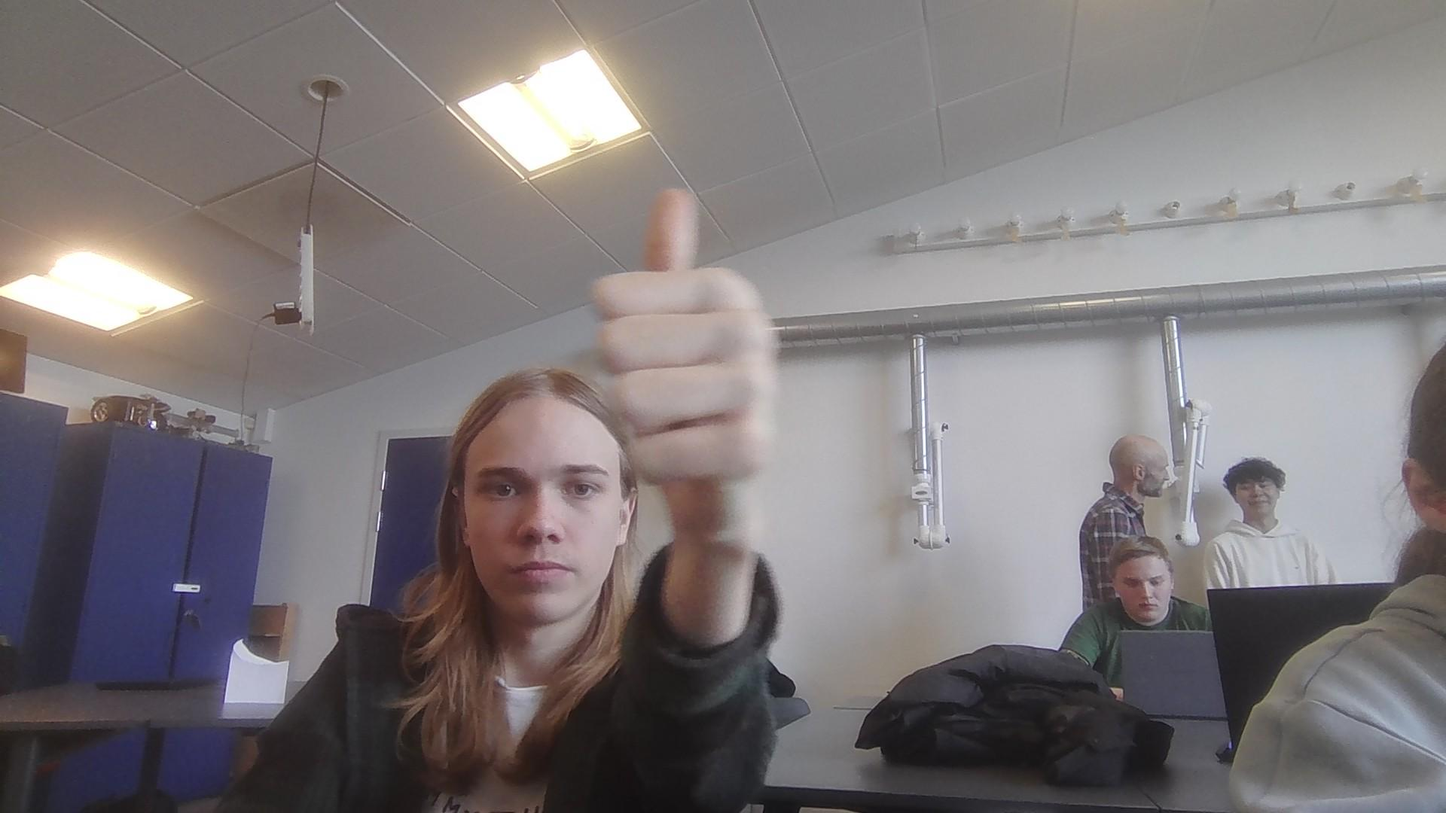thumbs up: (591, 189, 778, 480)
